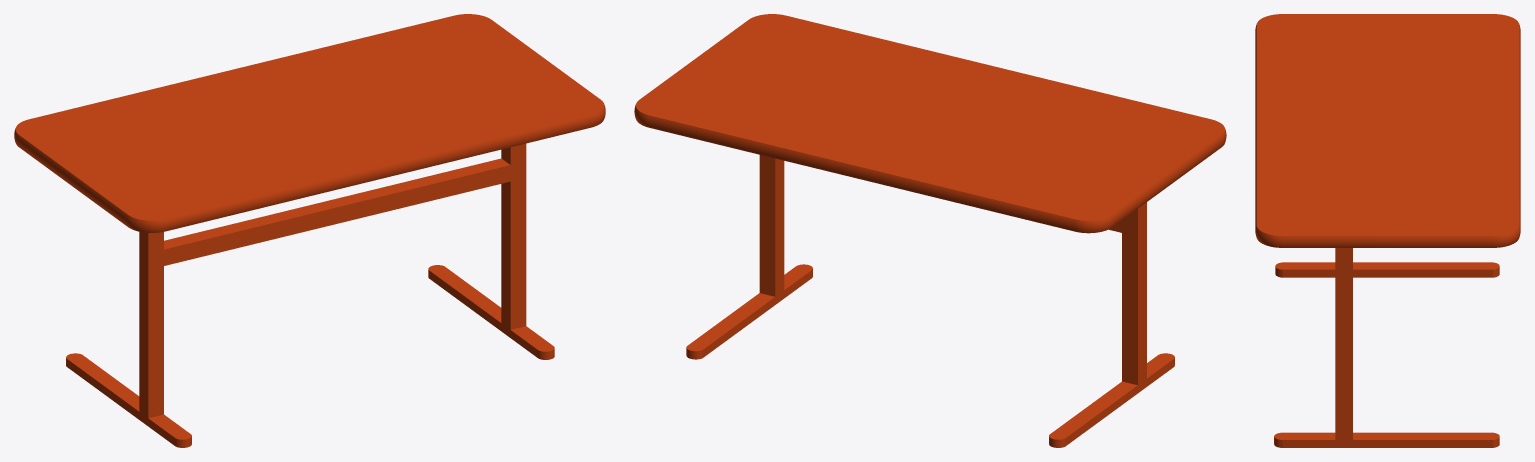
File: simpleDesk2.obj
3 views of the same model, side by side, from view 1: azimuth 30°, elevation 25°; view 2: azimuth 150°, elevation 25°; view 3: azimuth 270°, elevation 25° (orthographic). The views are drawn at different scales.
Visible parts, largest first — view 1: SketchUp; view 2: SketchUp; view 3: SketchUp.
Part boxes in pixels (box(x1,y1,x2,y2)): SketchUp: box(14, 14, 605, 447); SketchUp: box(634, 14, 1226, 447); SketchUp: box(1255, 14, 1520, 447).
Size of the model in its own units: 1.53 by 0.7493 by 0.7695.
